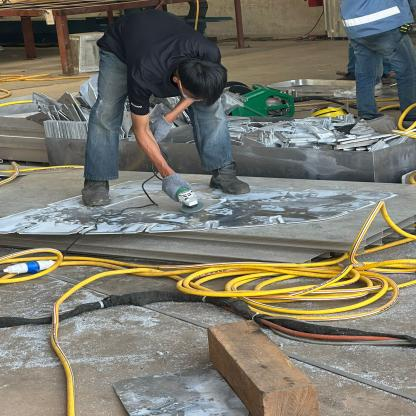bota: (206, 159, 254, 195), (78, 177, 113, 206)
